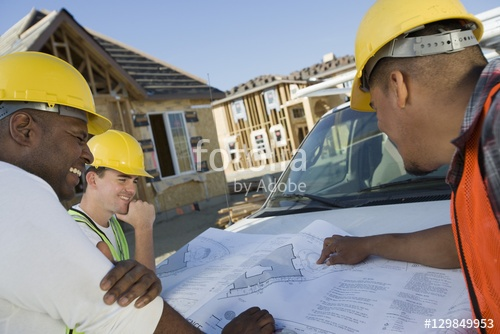yellow: (351, 3, 484, 176), (1, 51, 94, 202), (82, 127, 145, 217)
